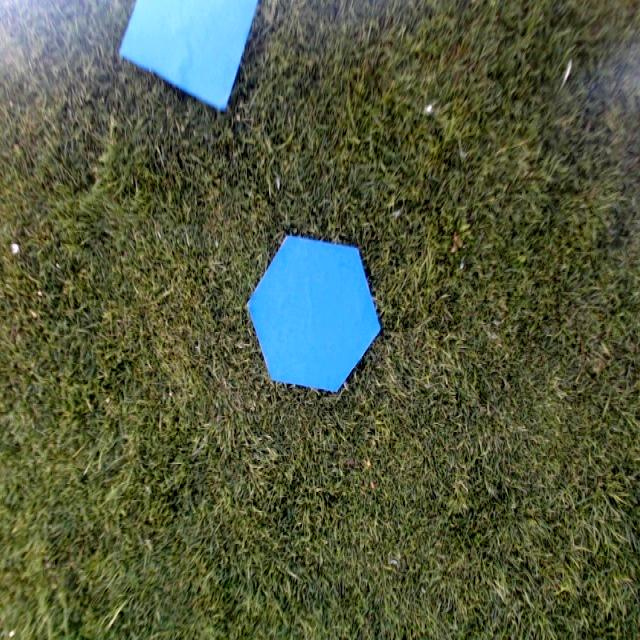blue_hexagon: (245, 233, 382, 395)
